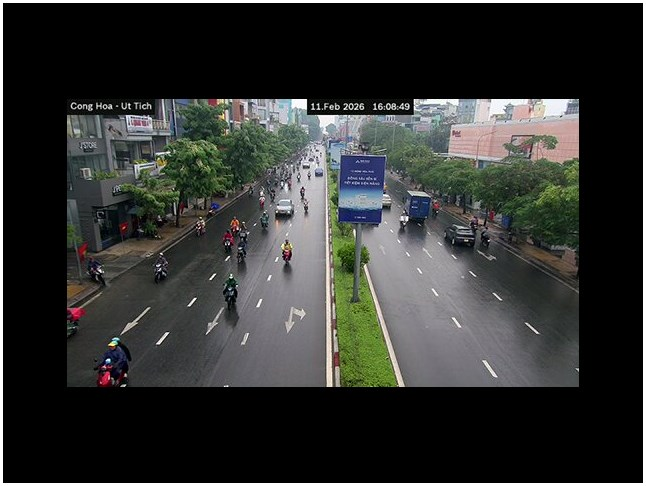car: (443, 224, 476, 248), (274, 198, 294, 217)
motorbike: (95, 353, 129, 387), (222, 274, 238, 310), (153, 256, 169, 283)
truck: (402, 189, 432, 223)
